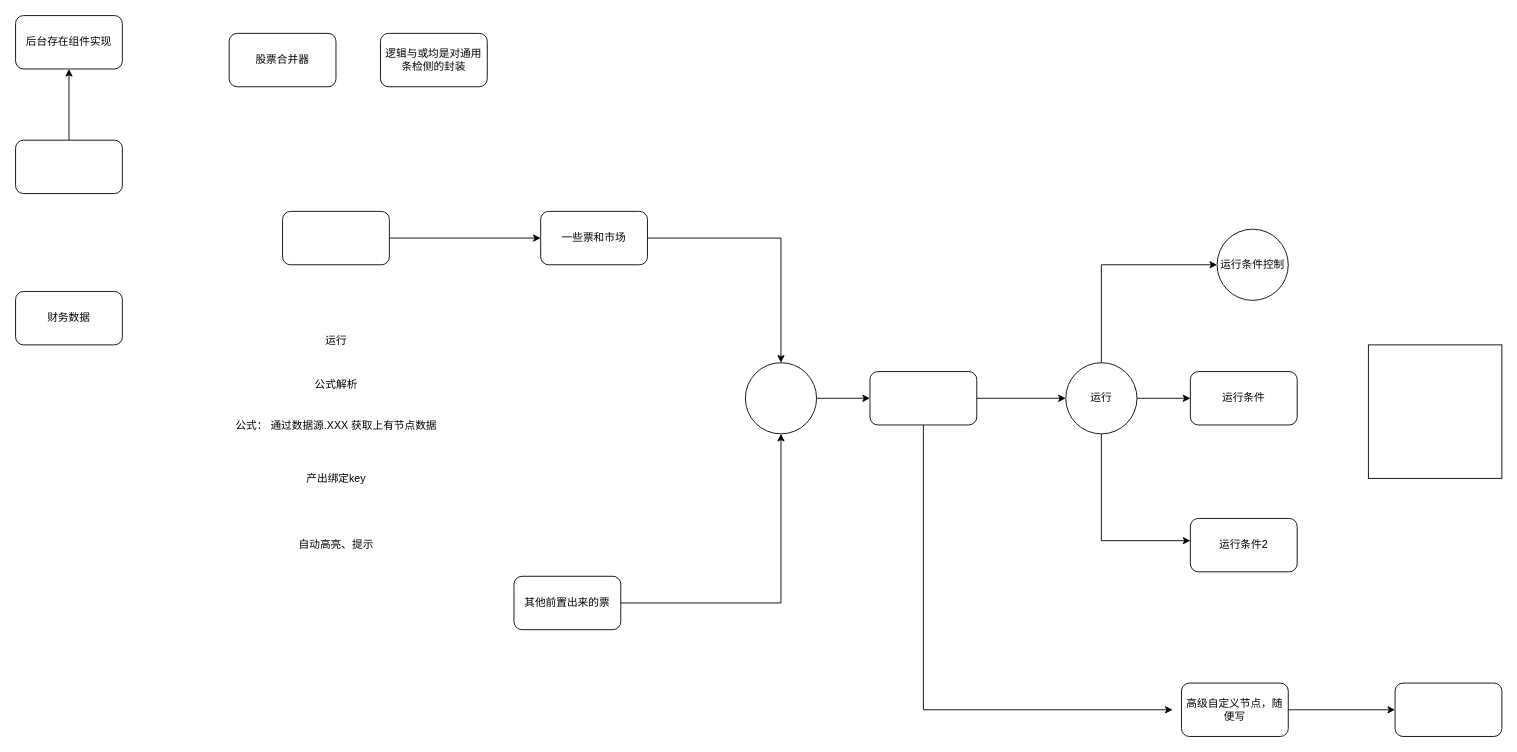
Some shapes in this 1517 by 752 pixel diagram are drawn without their labels. Here are the shapes that lost their labels. From the top down, the centre of each, then its label:
the point at 68,166: 数据源
the point at 335,237: 更加通用条件侧
the point at 780,398: 剩下的愿意什么条件就说明条件
the point at 923,398: 股票池
the point at 1434,411: 我们自己运行的实例，客户运行只是把任务提交到我们的实例里面
the point at 1448,709: 单独起固定cpu和核的实例托管
